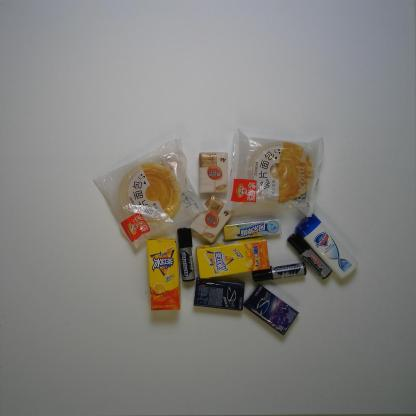Candy: (223, 216, 283, 242)
Dessert: (91, 138, 208, 254), (220, 127, 324, 218)
Drink: (196, 234, 272, 280), (146, 234, 182, 313)
Gum: (244, 283, 299, 336), (192, 276, 246, 312)
Personal Hygiene: (294, 210, 360, 281)
Stationery: (286, 231, 333, 279), (250, 260, 308, 283), (176, 226, 196, 282)
Tissue: (188, 193, 236, 245), (196, 150, 231, 196)
